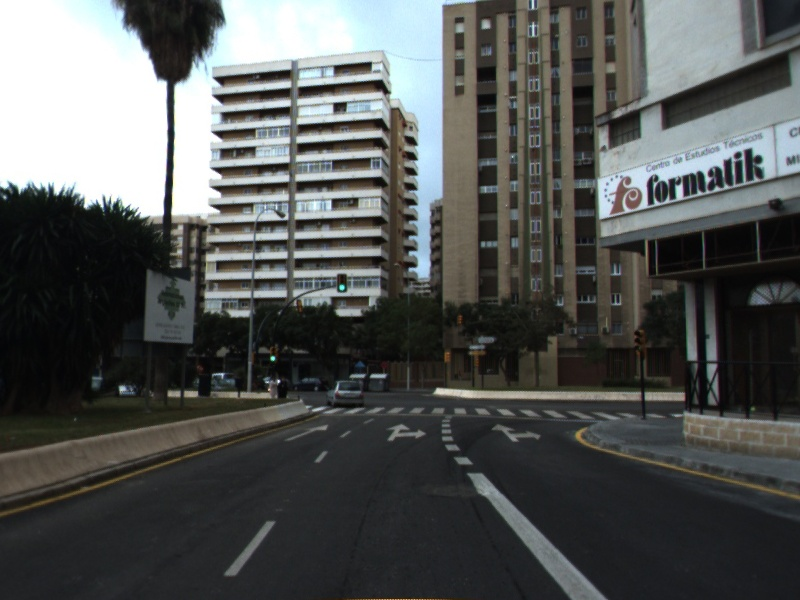STRAIGHT: (282, 422, 331, 443)
STRAIGHT_RIGHT: (489, 422, 543, 443), (384, 421, 429, 443)
